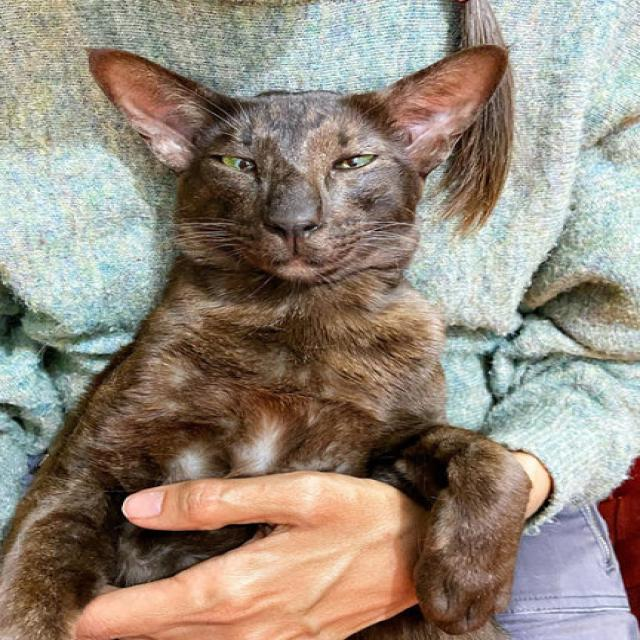Oriental: (0, 39, 539, 640)
